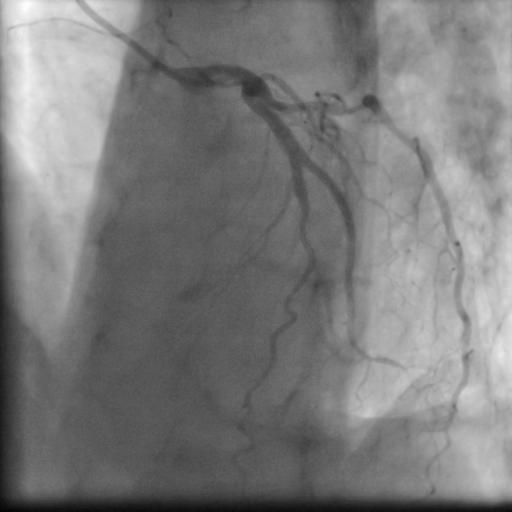Stenosis: (332, 92, 365, 122)
